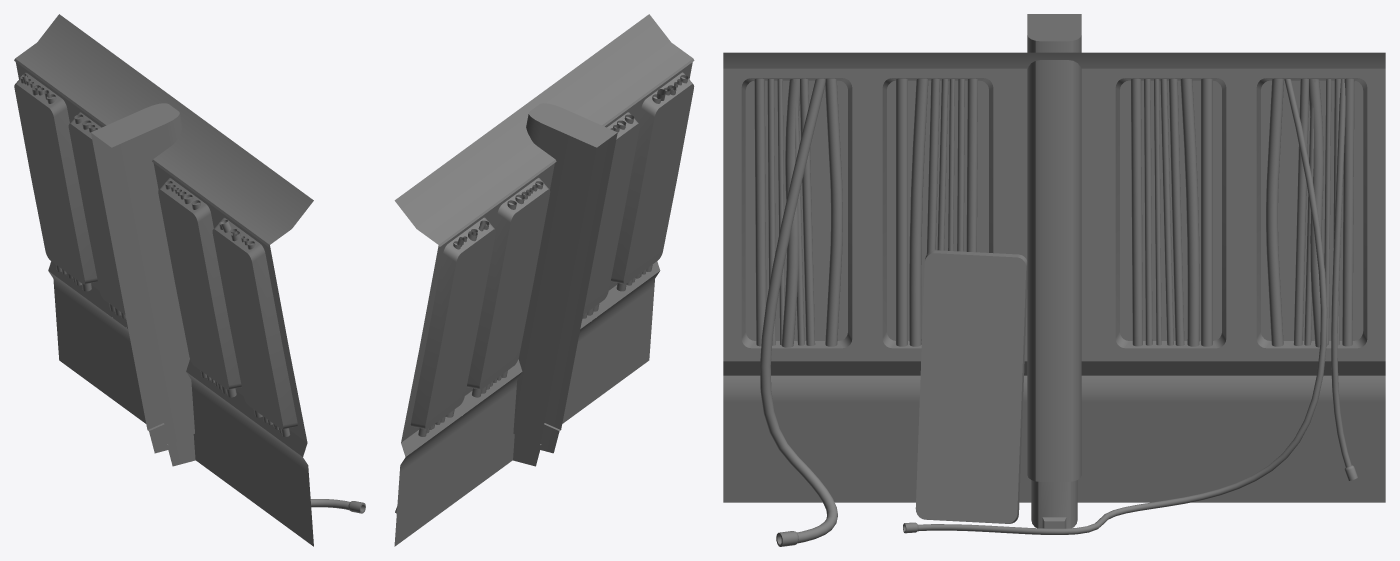
Rendered from q-scifi-mod-wallastra-straight-broken.glb.
The picture shows the model from 3 angles, left to right: view 1: azimuth 30°, elevation 25°; view 2: azimuth 150°, elevation 25°; view 3: azimuth 270°, elevation 25°; orthographic projection. The views are drawn at different scales.
Parts seen in each view (by area): view 1: WallAstra_Straight_Broken; view 2: WallAstra_Straight_Broken; view 3: WallAstra_Straight_Broken.
Part boxes in pixels (bbox=[...]): WallAstra_Straight_Broken: bbox=[14, 14, 365, 546]; WallAstra_Straight_Broken: bbox=[394, 14, 694, 546]; WallAstra_Straight_Broken: bbox=[723, 14, 1385, 546].
Bounding box in the file's own units: 1.45 × 3.03 × 4.
Materials: 6 (6 with a texture image).
